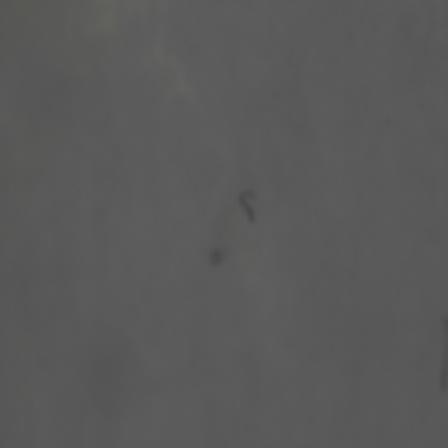Jentik-Nyamuk: (230, 187, 263, 228)
